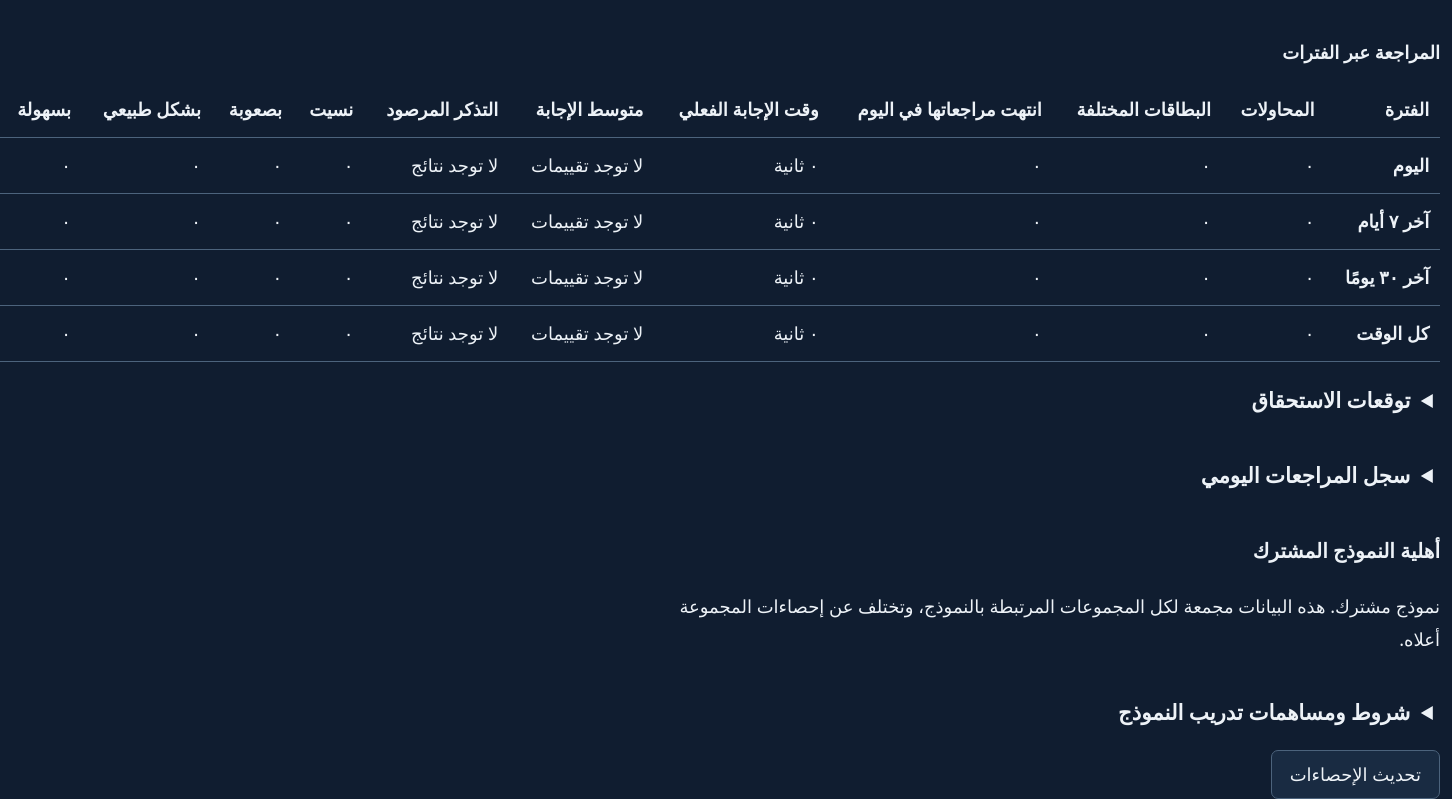
exposes logical-card/form counts and empty recall metrics in accessible tables
The width and height of the screenshot is (1452, 799).
(page scrolled)
Expected: the table "المراجعة عبر الفترات" shows "لا توجد نتائج", [411,153,498,177]
Expected: the table "الاستحقاقات خلال ٣٠ يومًا" is not shown
Click the heading "توقعات الاستحقاق".
click(1331, 399)  # box [1252,385,1410,414]
(page scrolled)
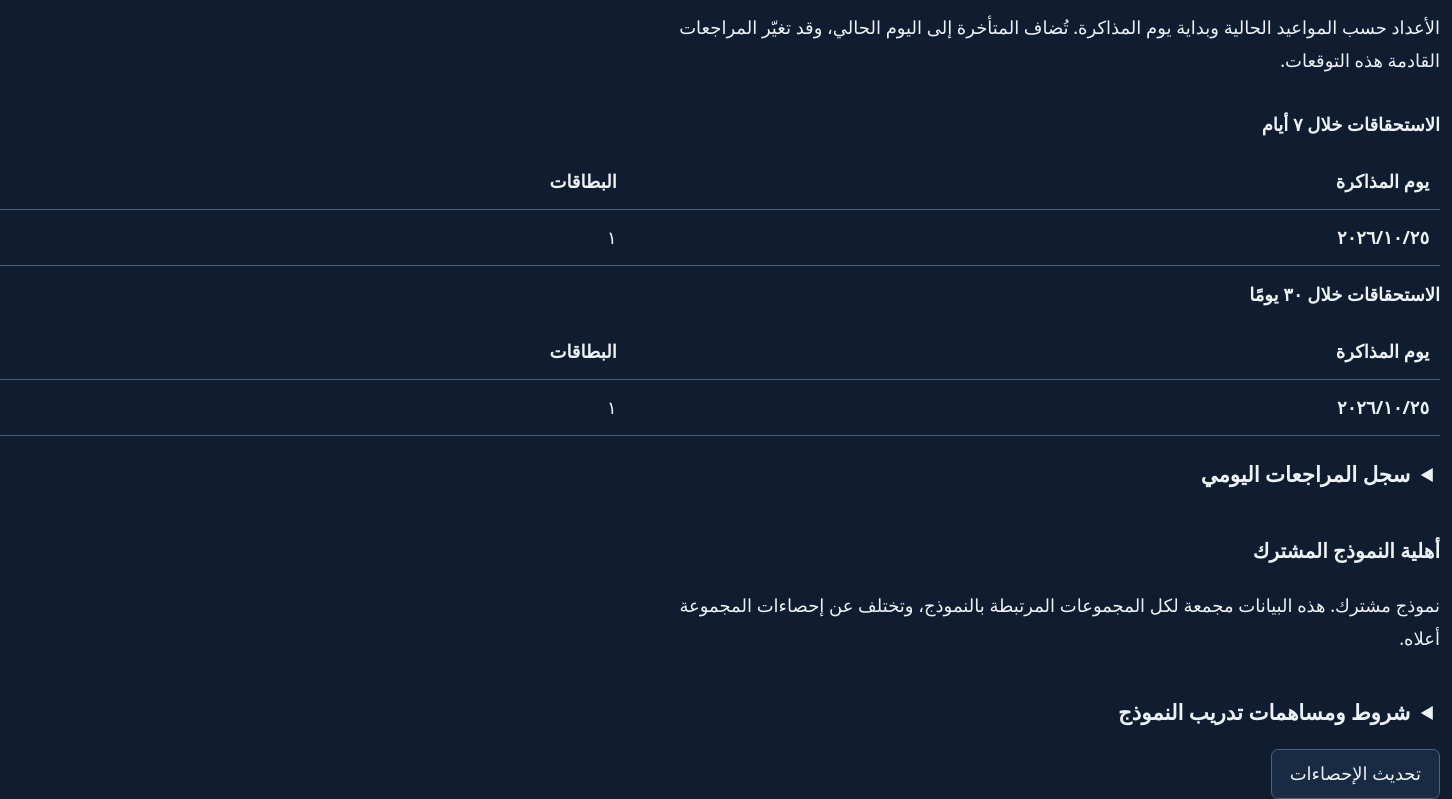
Expected: the heading "أهلية النموذج المشترك" is shown, [1253,536,1440,564]
Expected: the table "الاستحقاقات خلال ٣٠ يومًا" is shown, [0,266,1440,436]
